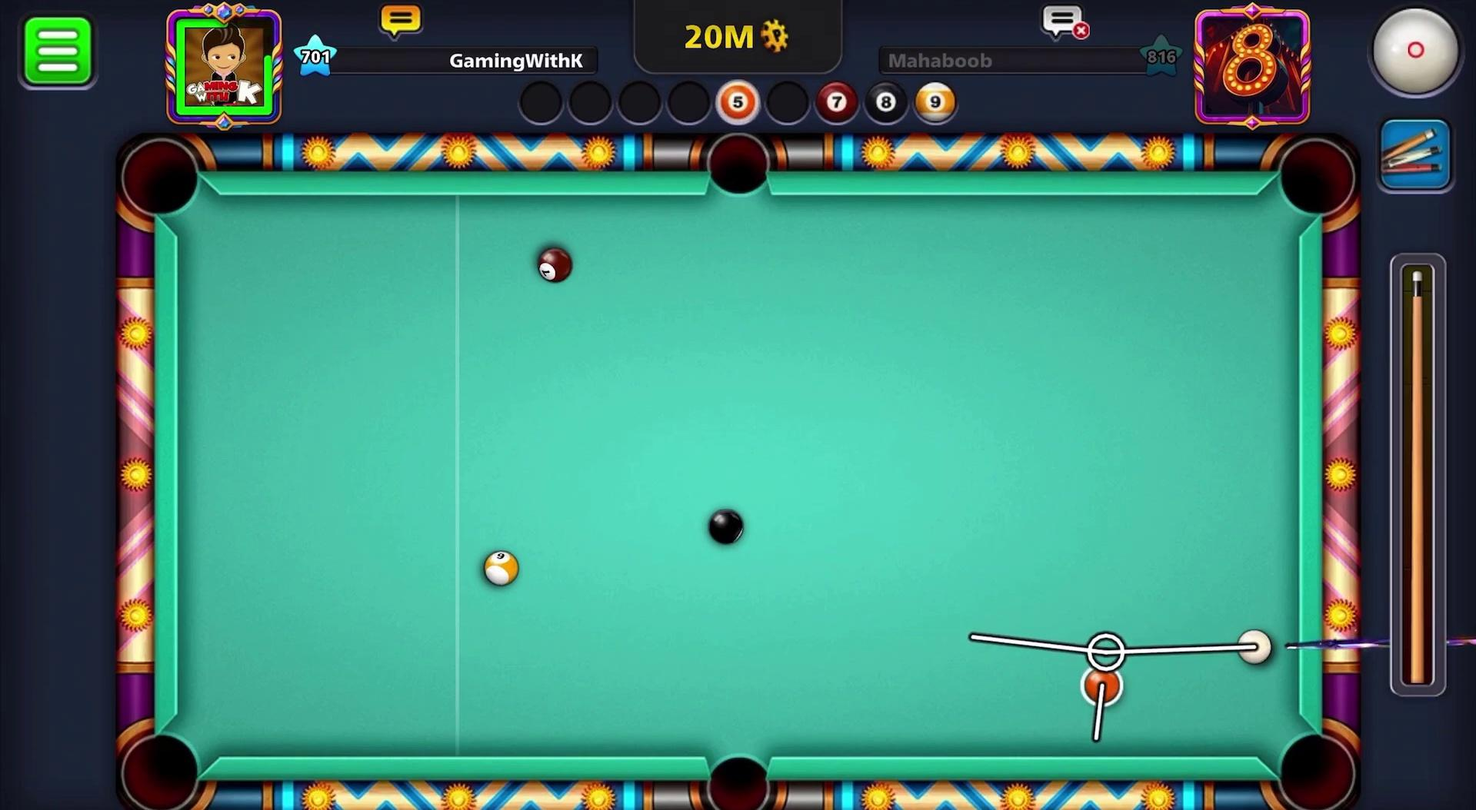Ball: (699, 504, 751, 550), (1080, 659, 1123, 712), (476, 544, 524, 589), (529, 245, 575, 284)
Force: (1388, 254, 1451, 692)
Guideline: (968, 629, 1273, 742)
Hole: (1269, 129, 1366, 229), (113, 132, 205, 223), (1268, 722, 1361, 809), (115, 727, 205, 809), (694, 739, 780, 809), (703, 126, 775, 199)
Play_Area: (174, 189, 1299, 762)
Spin: (1346, 0, 1475, 112)
White: (1238, 625, 1281, 672)
